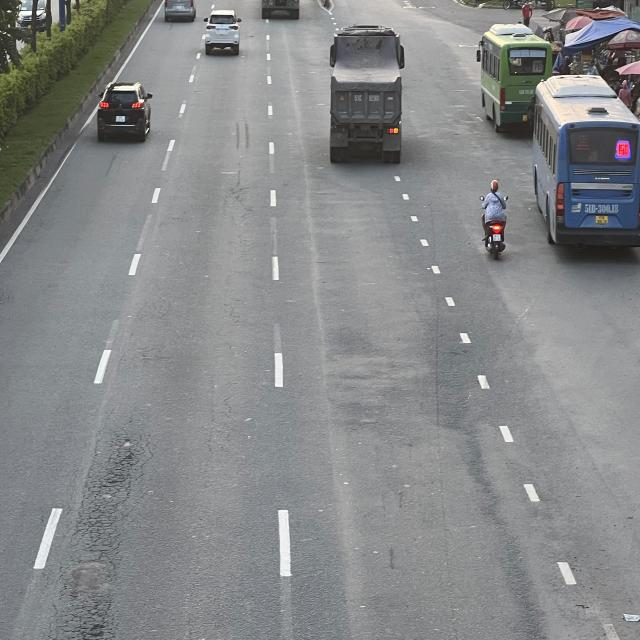car: (98, 80, 154, 142), (202, 8, 242, 54)
coach: (530, 75, 640, 249), (476, 27, 550, 132)
container: (328, 26, 408, 164)
